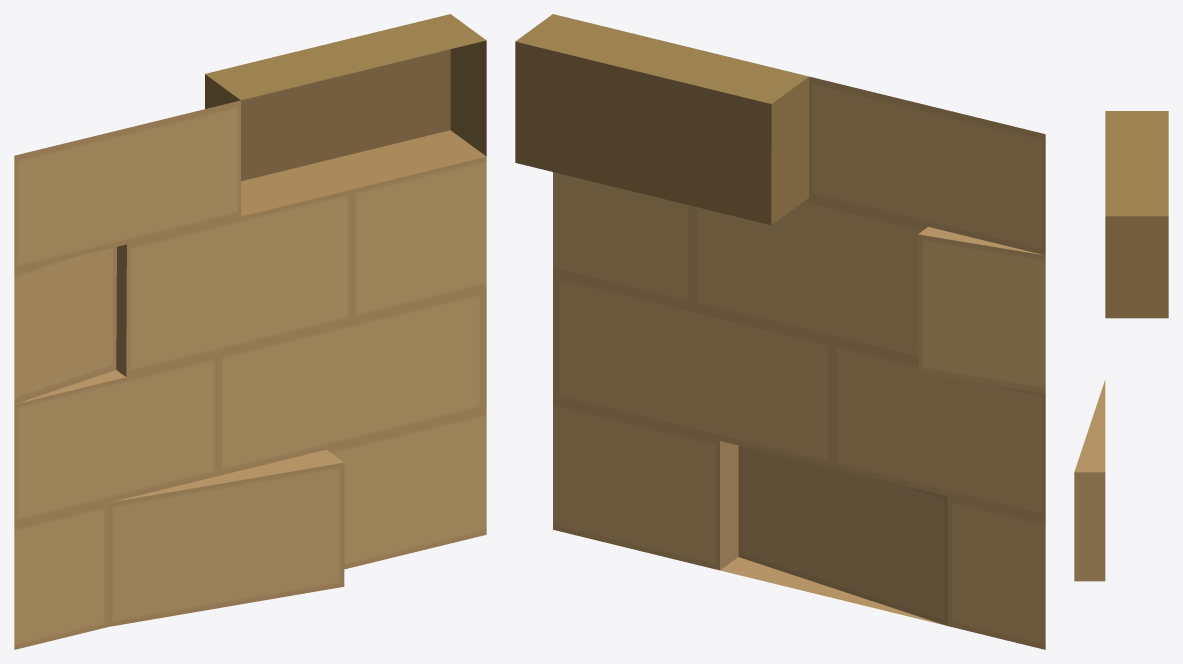
Rendered from ST_Env_Wall_Damaged_03.fbx.
3 renders of one model, left to right at view 1: azimuth 30°, elevation 25°; view 2: azimuth 150°, elevation 25°; view 3: azimuth 270°, elevation 25°, orthographic. The views are drawn at different scales.
Parts seen in each view (by area): view 1: ST_Env_Wall_Damaged_03; view 2: ST_Env_Wall_Damaged_03; view 3: ST_Env_Wall_Damaged_03.
Boxes of the visible parts, x1,y1,x2,y2 form: ST_Env_Wall_Damaged_03: [14, 14, 486, 649]; ST_Env_Wall_Damaged_03: [515, 14, 1045, 649]; ST_Env_Wall_Damaged_03: [1074, 111, 1168, 581].
Size of the model in its own units: 5 by 5 by 0.987.
